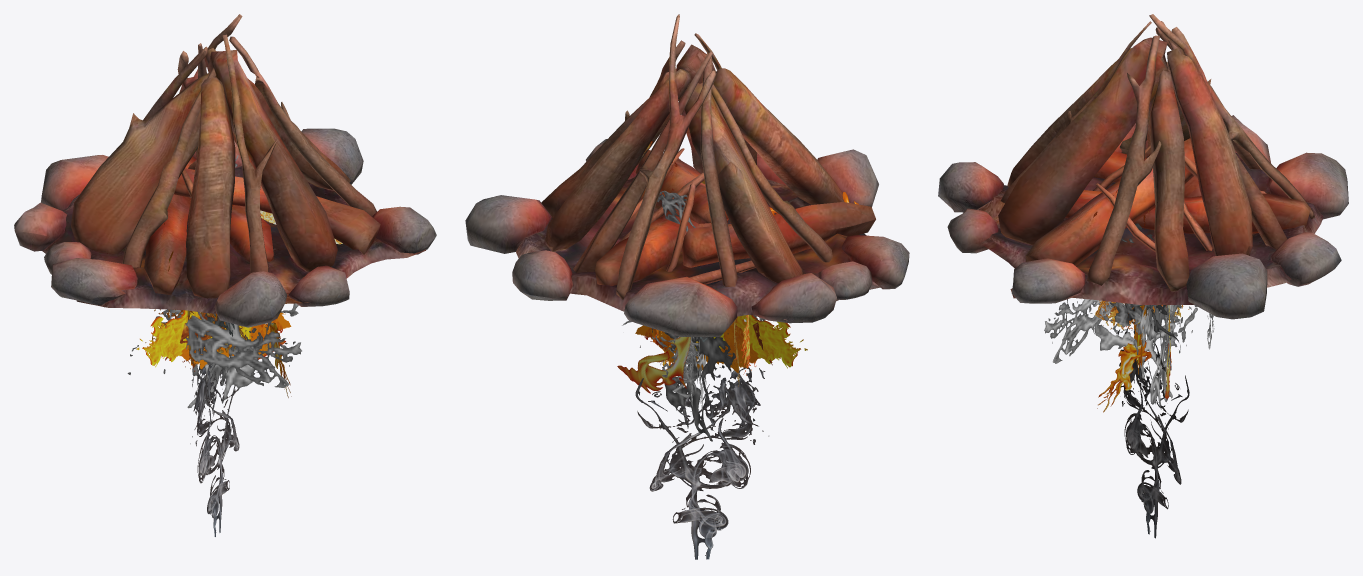
The model's file is Campfire_clean.OBJ.
3 renders of one model, left to right at view 1: azimuth 30°, elevation 25°; view 2: azimuth 150°, elevation 25°; view 3: azimuth 270°, elevation 25°, orthographic. The views are drawn at different scales.
Parts seen in each view (by area): view 1: Campfire_Mesh, fire_part_017_Mesh.018, fire_part_028_Mesh.029, fire_part_02_Mesh.003, fire_part_020_Mesh.021; view 2: Campfire_Mesh, fire_part_028_Mesh.029, fire_part_02_Mesh.003, fire_part_020_Mesh.021, fire_part_08_Mesh.009, fire_part_014_Mesh.015, fire_part_022_Mesh.023; view 3: Campfire_Mesh, fire_part_028_Mesh.029, fire_part_017_Mesh.018, fire_part_016_Mesh.017, fire_part_020_Mesh.021, fire_part_09_Mesh.010, fire_part_024_Mesh.025.
Part boxes in pixels (<box>): Campfire_Mesh: <box>14,14,436,327</box>; fire_part_017_Mesh.018: <box>185,310,301,387</box>; fire_part_028_Mesh.029: <box>190,335,239,536</box>; fire_part_02_Mesh.003: <box>136,310,291,369</box>; fire_part_020_Mesh.021: <box>127,303,298,408</box>; Campfire_Mesh: <box>465,14,909,336</box>; fire_part_028_Mesh.029: <box>635,318,768,559</box>; fire_part_02_Mesh.003: <box>635,188,807,372</box>; fire_part_020_Mesh.021: <box>659,331,755,441</box>; fire_part_08_Mesh.009: <box>617,337,690,393</box>; fire_part_014_Mesh.015: <box>652,334,702,397</box>; fire_part_022_Mesh.023: <box>657,190,695,232</box>; Campfire_Mesh: <box>938,14,1348,319</box>; fire_part_028_Mesh.029: <box>1114,307,1189,538</box>; fire_part_017_Mesh.018: <box>1044,299,1112,363</box>; fire_part_016_Mesh.017: <box>1090,305,1197,382</box>; fire_part_020_Mesh.021: <box>1133,305,1192,409</box>; fire_part_09_Mesh.010: <box>1097,342,1151,412</box>; fire_part_024_Mesh.025: <box>1109,302,1152,325</box>.
Size of the model in its own units: 3.92 by 5.39 by 3.76.
Materials: 2 (2 with a texture image).
